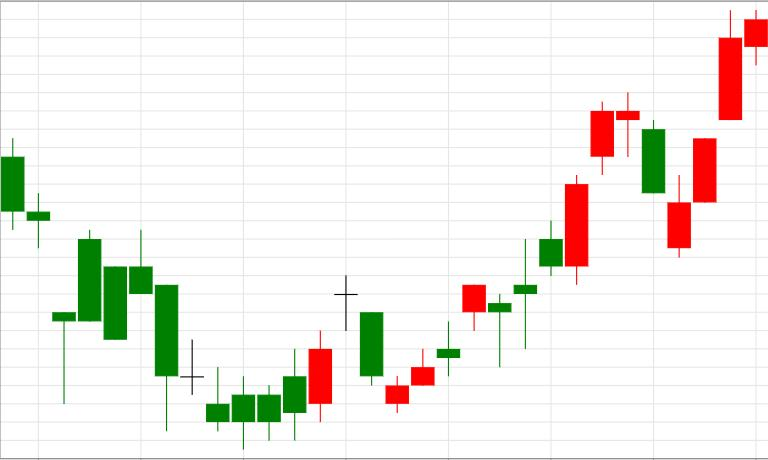evening_star_fall: (206, 276, 383, 449)
three_white_soldiers_rise: (616, 10, 742, 258)
